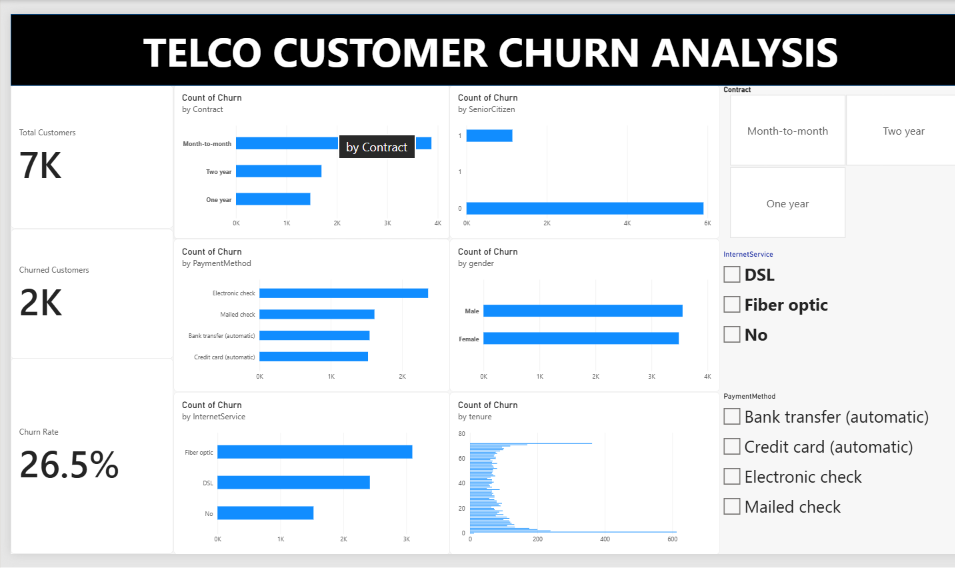

This screenshot's page, from the dashboard's own definition file:
{"tool":"powerbi","page":{"name":"Page 1","canvas":[1920,1080],"ordinal":0},"visuals":[{"type":"cardVisual","fields":{"Data":["WA_Fn-UseC_-Telco-Customer-Churn.Total Customers"]},"box":[0,142.5,325,287.5],"z":0},{"type":"cardVisual","fields":{"Data":["WA_Fn-UseC_-Telco-Customer-Churn.Churned Customers"]},"box":[0,430,325,260],"z":1},{"type":"cardVisual","fields":{"Data":["WA_Fn-UseC_-Telco-Customer-Churn.Churn Rate"]},"box":[0,688.8,325.5,392.3],"z":2},{"type":"barChart","fields":{"Category":["WA_Fn-UseC_-Telco-Customer-Churn.Contract"],"Y":["CountNonNull(WA_Fn-UseC_-Telco-Customer-Churn.Churn)"]},"box":[325,142.5,552.5,307.5],"z":3},{"type":"barChart","fields":{"Category":["WA_Fn-UseC_-Telco-Customer-Churn.PaymentMethod"],"Y":["CountNonNull(WA_Fn-UseC_-Telco-Customer-Churn.Churn)"]},"box":[325,450,552.5,305],"z":4},{"type":"barChart","fields":{"Category":["WA_Fn-UseC_-Telco-Customer-Churn.InternetService"],"Y":["CountNonNull(WA_Fn-UseC_-Telco-Customer-Churn.Churn)"]},"box":[325,755,552.5,325],"z":5},{"type":"barChart","fields":{"Category":["WA_Fn-UseC_-Telco-Customer-Churn.SeniorCitizen"],"Y":["CountNonNull(WA_Fn-UseC_-Telco-Customer-Churn.Churn)"]},"box":[877.5,142.5,540,307.5],"z":6},{"type":"barChart","fields":{"Category":["WA_Fn-UseC_-Telco-Customer-Churn.gender"],"Y":["CountNonNull(WA_Fn-UseC_-Telco-Customer-Churn.Churn)"]},"box":[877.5,450,540,305],"z":7},{"type":"barChart","fields":{"Category":["WA_Fn-UseC_-Telco-Customer-Churn.tenure"],"Y":["CountNonNull(WA_Fn-UseC_-Telco-Customer-Churn.Churn)"]},"box":[877.5,755,540,325],"z":8},{"type":"slicer","fields":{"Values":["WA_Fn-UseC_-Telco-Customer-Churn.Contract"]},"box":[1417.5,142.5,502.5,307.5],"z":9},{"type":"slicer","fields":{"Values":["WA_Fn-UseC_-Telco-Customer-Churn.InternetService"]},"box":[1417.5,472.5,502.5,282.5],"z":10},{"type":"slicer","fields":{"Values":["WA_Fn-UseC_-Telco-Customer-Churn.PaymentMethod"]},"box":[1417.5,755,502.5,325],"z":11},{"type":"shape","box":[0,0,1920,143.3],"z":13}]}

Visuals, with their boxes on the page's 1920x1080 design canvas (x1, y1, x2, y2). These are canvas units, not pixel positions in the 955x568 screenshot, which may show the page scaled, cropped or inside an application window:
cardVisual - WA_Fn-UseC_-Telco-Customer-Churn.Total Customers: box(0, 142, 325, 430)
cardVisual - WA_Fn-UseC_-Telco-Customer-Churn.Churned Customers: box(0, 430, 325, 690)
cardVisual - WA_Fn-UseC_-Telco-Customer-Churn.Churn Rate: box(0, 689, 326, 1081)
barChart - WA_Fn-UseC_-Telco-Customer-Churn.Contract x CountNonNull(WA_Fn-UseC_-Telco-Customer-Churn.Churn): box(325, 142, 878, 450)
barChart - WA_Fn-UseC_-Telco-Customer-Churn.PaymentMethod x CountNonNull(WA_Fn-UseC_-Telco-Customer-Churn.Churn): box(325, 450, 878, 755)
barChart - WA_Fn-UseC_-Telco-Customer-Churn.InternetService x CountNonNull(WA_Fn-UseC_-Telco-Customer-Churn.Churn): box(325, 755, 878, 1080)
barChart - WA_Fn-UseC_-Telco-Customer-Churn.SeniorCitizen x CountNonNull(WA_Fn-UseC_-Telco-Customer-Churn.Churn): box(878, 142, 1418, 450)
barChart - WA_Fn-UseC_-Telco-Customer-Churn.gender x CountNonNull(WA_Fn-UseC_-Telco-Customer-Churn.Churn): box(878, 450, 1418, 755)
barChart - WA_Fn-UseC_-Telco-Customer-Churn.tenure x CountNonNull(WA_Fn-UseC_-Telco-Customer-Churn.Churn): box(878, 755, 1418, 1080)
slicer - WA_Fn-UseC_-Telco-Customer-Churn.Contract: box(1418, 142, 1920, 450)
slicer - WA_Fn-UseC_-Telco-Customer-Churn.InternetService: box(1418, 472, 1920, 755)
slicer - WA_Fn-UseC_-Telco-Customer-Churn.PaymentMethod: box(1418, 755, 1920, 1080)
shape: box(0, 0, 1920, 143)
